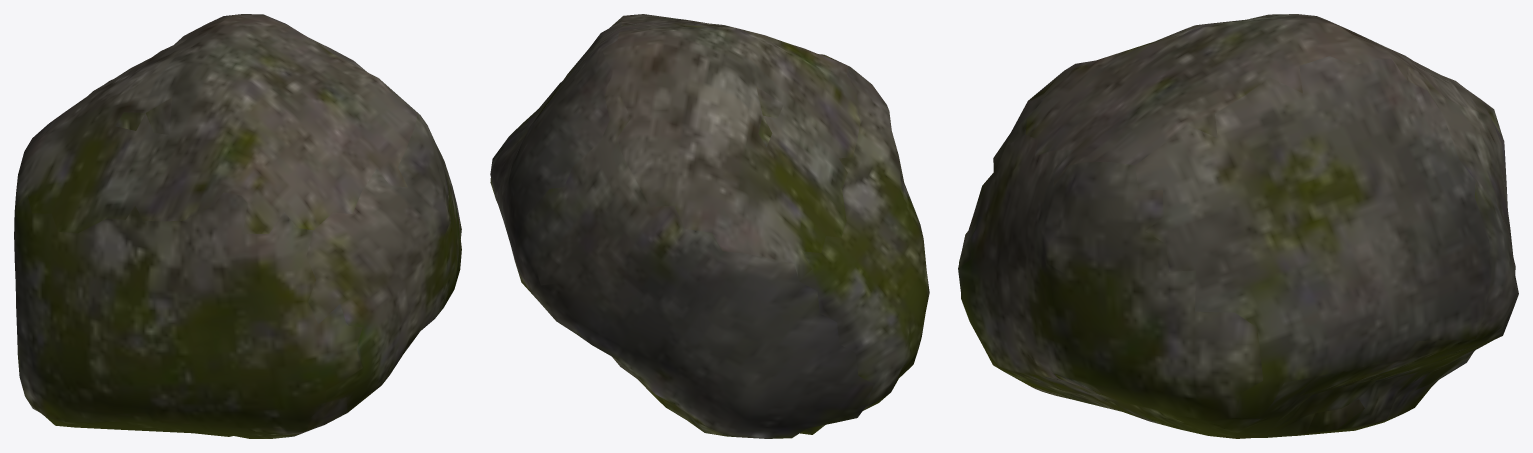
File: rock3-1O0PbrV0.glb
3 views of the same model, side by side, from view 1: azimuth 30°, elevation 25°; view 2: azimuth 150°, elevation 25°; view 3: azimuth 270°, elevation 25° (orthographic). The views are drawn at different scales.
Parts seen in each view (by area): view 1: A_Set.004; view 2: A_Set.004; view 3: A_Set.004.
Boxes of the visible parts, bbox=[...] form: A_Set.004: bbox=[14, 14, 461, 438]; A_Set.004: bbox=[490, 14, 929, 438]; A_Set.004: bbox=[958, 14, 1518, 438].
Size of the model in its own units: 5.74 by 4.71 by 5.45.
Materials: 1 (1 with a texture image).
